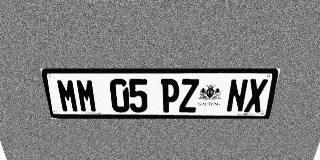0: (109, 79, 130, 112)
5: (128, 79, 148, 112)
M: (55, 79, 80, 112), (75, 79, 98, 112)
N: (226, 79, 249, 112)
P: (161, 79, 180, 112)
X: (244, 79, 268, 112)
Z: (179, 79, 199, 112)
